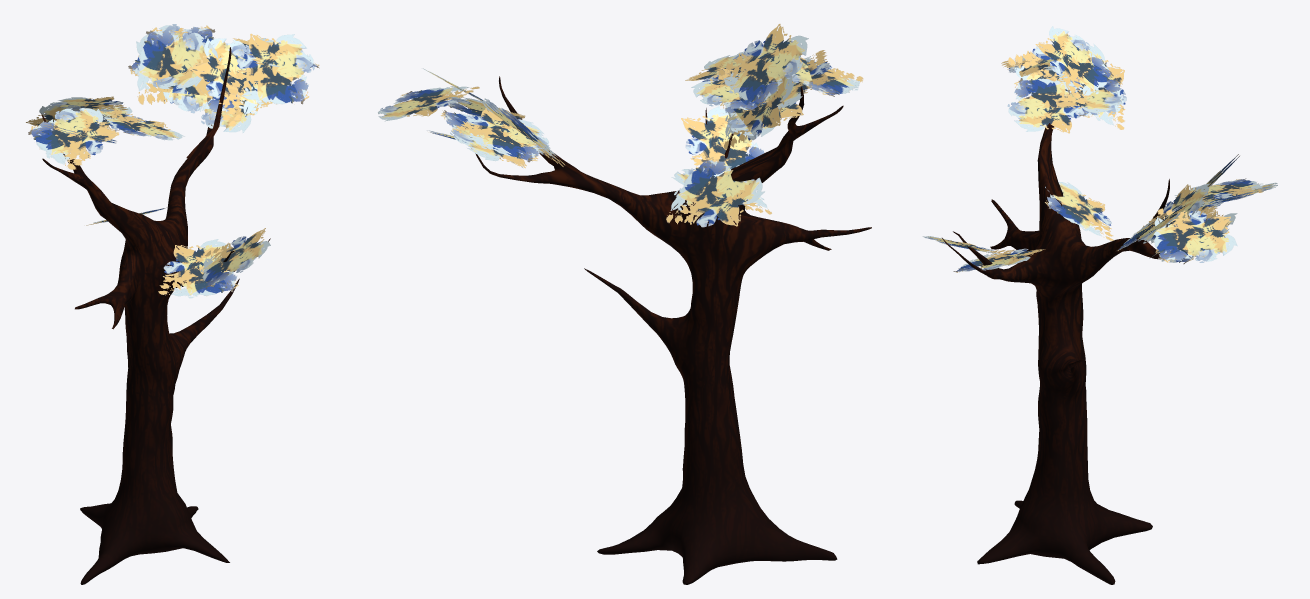
File: sparsetree.fbx
3 views of the same model, side by side, from view 1: azimuth 30°, elevation 25°; view 2: azimuth 150°, elevation 25°; view 3: azimuth 270°, elevation 25° (orthographic). The views are drawn at different scales.
Visible parts, largest first — view 1: GEO_treetrunk_a2, tree_ver4_leafheap; view 2: GEO_treetrunk_a2, tree_ver4_leafheap; view 3: GEO_treetrunk_a2, tree_ver4_leafheap.
Boxes of the visible parts, x1,y1,x2,y2 form: GEO_treetrunk_a2: [41, 47, 270, 584]; tree_ver4_leafheap: [26, 24, 319, 298]; GEO_treetrunk_a2: [475, 76, 871, 584]; tree_ver4_leafheap: [378, 24, 863, 227]; GEO_treetrunk_a2: [942, 123, 1169, 584]; tree_ver4_leafheap: [922, 26, 1277, 272].
Bounding box in the file's own units: 4.27 × 5.46 × 3.91.
